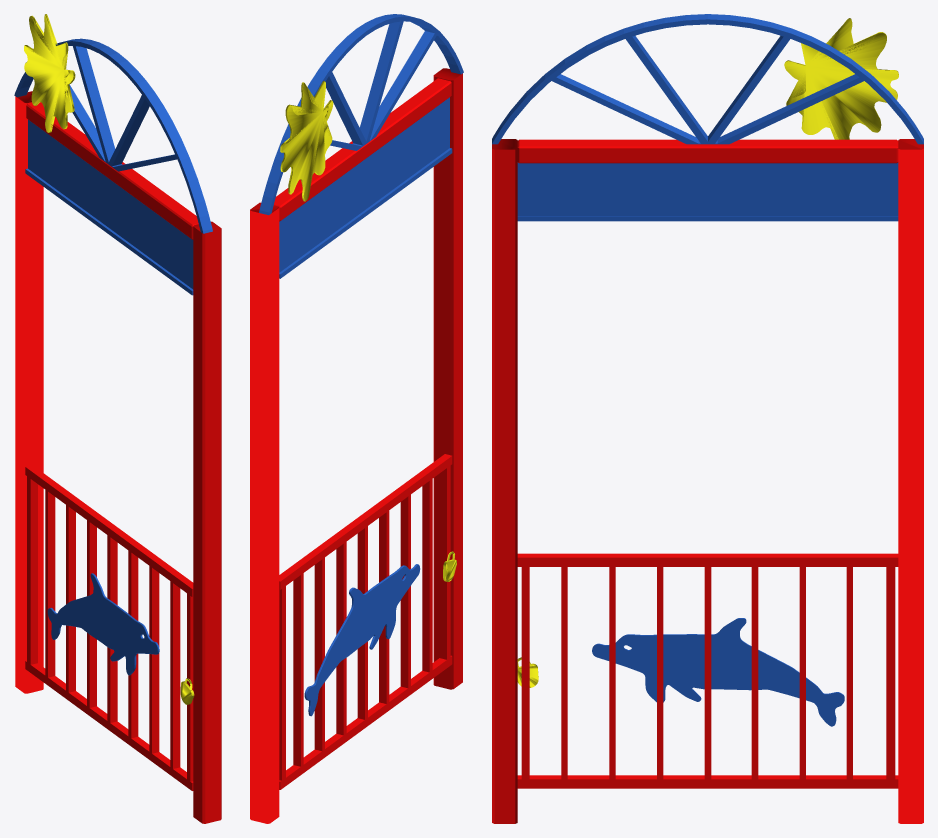
3 renders of one model, left to right at view 1: azimuth 30°, elevation 25°; view 2: azimuth 150°, elevation 25°; view 3: azimuth 270°, elevation 25°, orthographic. The views are drawn at different scales.
Parts seen in each view (by area): view 1: B_19; view 2: B_19; view 3: B_19.
Part boxes in pixels (x1,y1,x2,y2): B_19: (14,14,221,823); B_19: (250,14,463,823); B_19: (492,14,923,823).
Size of the model in its own units: 9 by 277 by 136.
